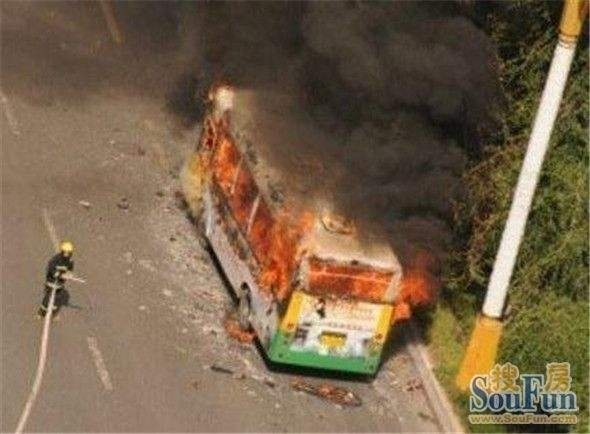fire: (171, 77, 442, 369)
